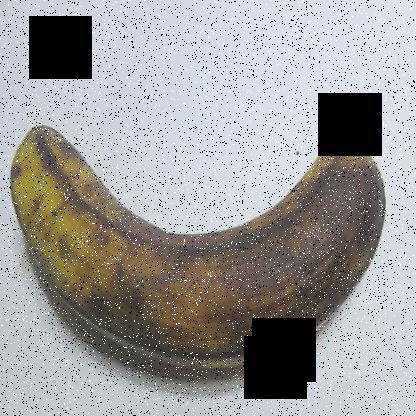overripe: (2, 88, 402, 386)
